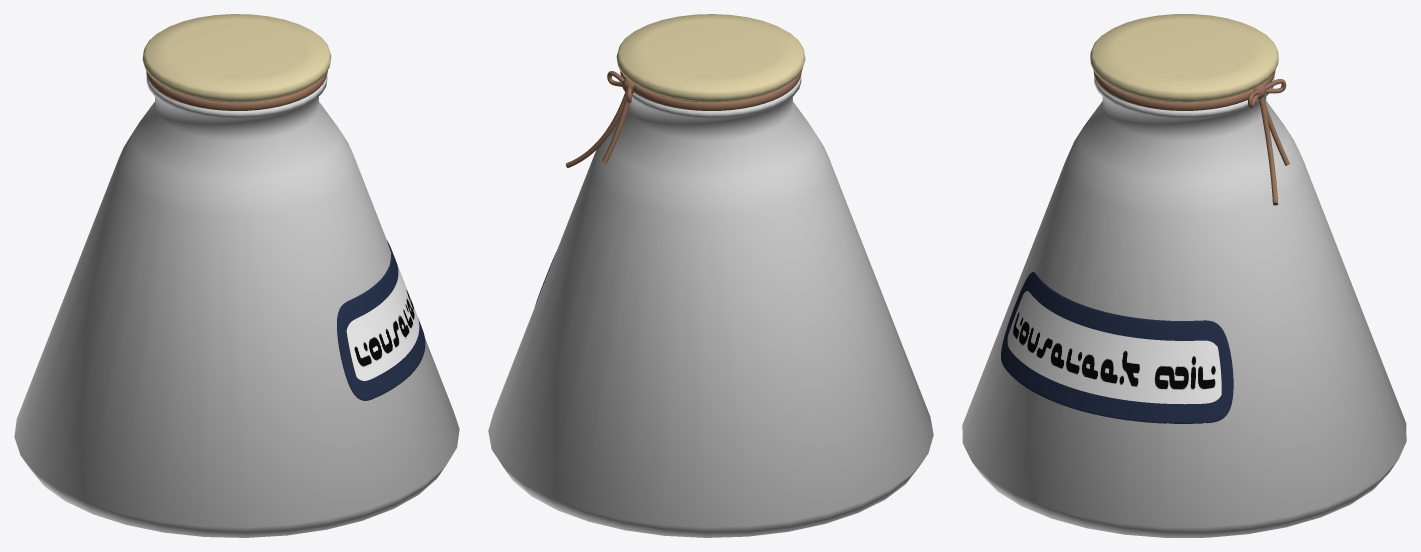
File: olive oil.fbx
3 renders of one model, left to right at view 1: azimuth 30°, elevation 25°; view 2: azimuth 150°, elevation 25°; view 3: azimuth 270°, elevation 25°, orthographic.
Parts seen in each view (by area): view 1: olive oil, Cylinder.007, label.006, rope.006; view 2: olive oil, Cylinder.007, rope.006; view 3: olive oil, label.006, Cylinder.007, rope.006.
Boxes of the visible parts, x1=… form: olive oil: x1=14, y1=75, x2=459, y2=537; Cylinder.007: x1=142, y1=14, x2=331, y2=102; label.006: x1=337, y1=240, x2=425, y2=400; rope.006: x1=146, y1=70, x2=327, y2=110; olive oil: x1=488, y1=75, x2=933, y2=537; Cylinder.007: x1=616, y1=14, x2=805, y2=102; rope.006: x1=565, y1=71, x2=801, y2=167; olive oil: x1=962, y1=76, x2=1406, y2=537; label.006: x1=1001, y1=272, x2=1233, y2=423; Cylinder.007: x1=1090, y1=14, x2=1278, y2=102; rope.006: x1=1093, y1=70, x2=1289, y2=205.
Bounding box in the file's own units: 91.73 × 91.86 × 91.73.
